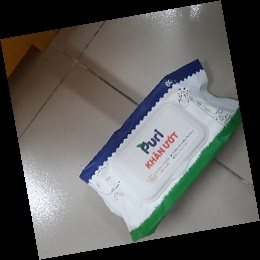Puri Trang: (77, 59, 247, 243)
